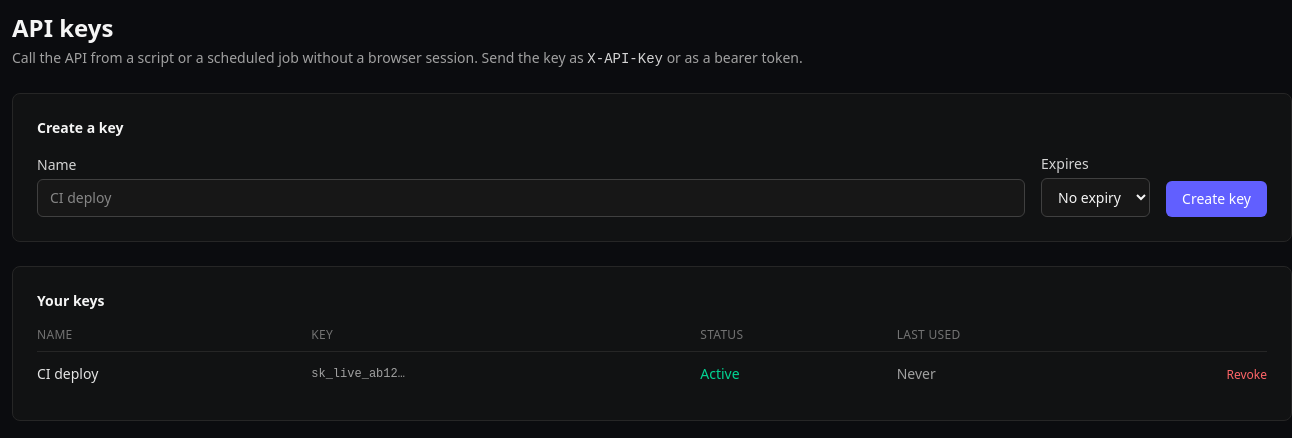
Test: ApiKeysPage › asks for confirmation before revoking
The image size is (1292, 438).
Click the button "Revoke": click(1247, 375) [1226,367,1267,383]
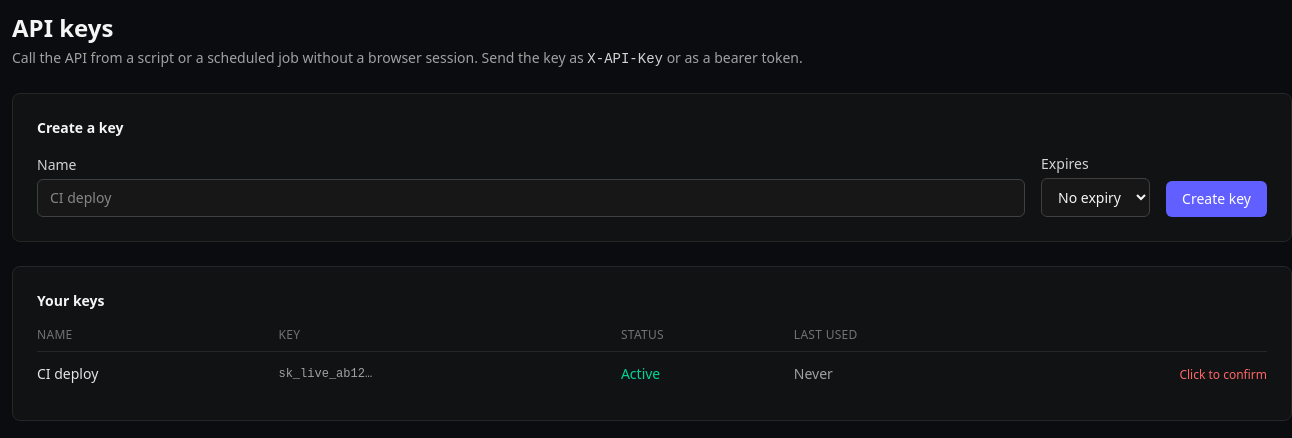
Result: the button "Click to confirm" is shown at [1179,367,1267,383]
